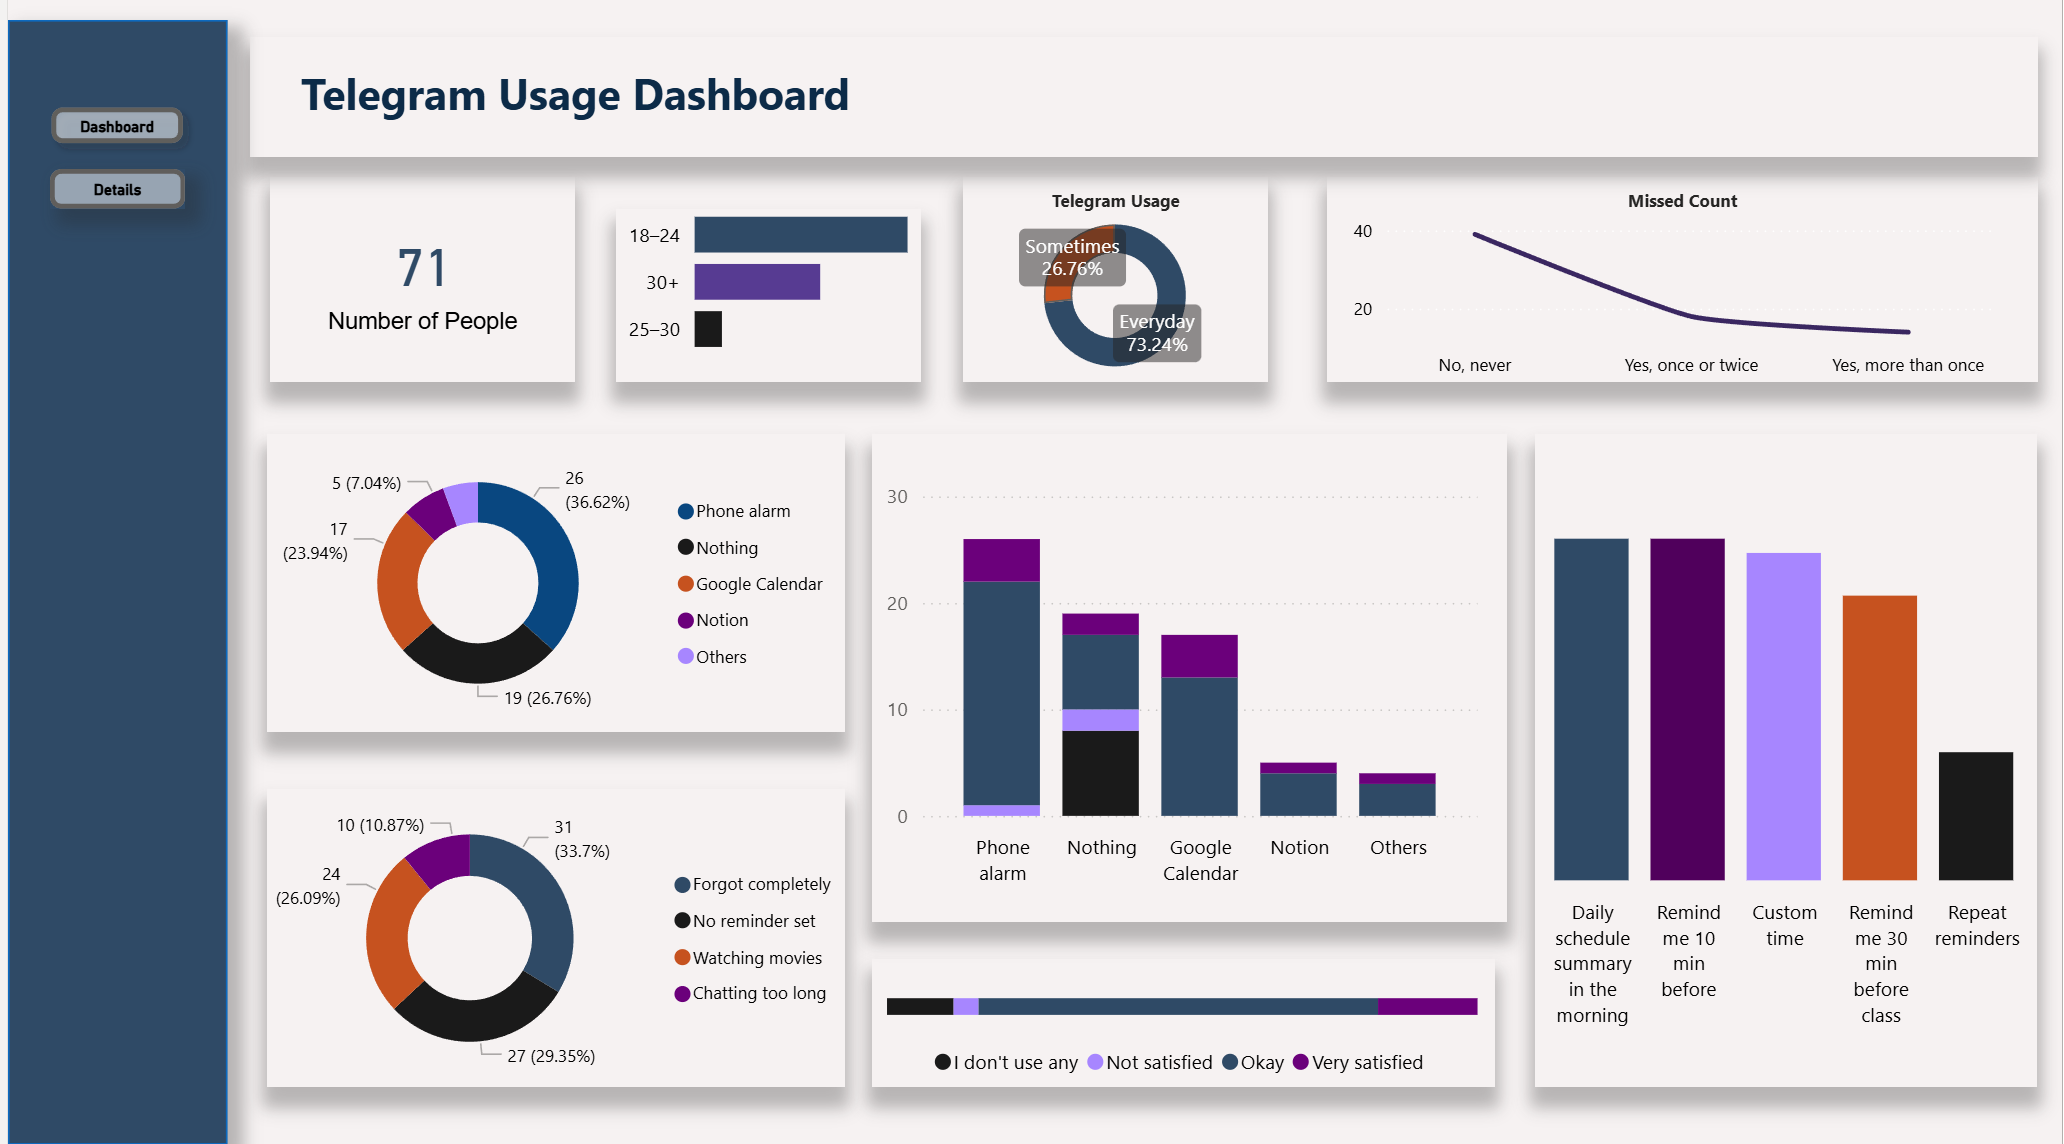

This screenshot's page, from the dashboard's own definition file:
{"tool":"powerbi","page":{"name":"Page 1","canvas":[1280,720],"ordinal":0},"visuals":[{"type":"shape","box":[0,19,136.8,700.9],"z":0},{"type":"shape","box":[163.4,116.8,190.1,127.8],"z":0,"group":"g1"},{"type":"columnChart","fields":{"Category":["Remind Time (Sheet1).Remind Time"],"Y":["Sum(Remind Time (Sheet1).Column2)"]},"box":[926.4,319.2,353.6,334.8],"z":0,"group":"g2"},{"type":"shape","box":[150.5,29.4,1114.4,75.3],"z":1000},{"type":"group","id":"g1","title":"Group 1","box":[155.7,116.8,1109.3,569.6],"z":1000,"group":"g2"},{"type":"shape","box":[161.6,276.8,359.9,185.8],"z":1000,"group":"g1"},{"type":"textbox","box":[150.5,40.6,405.7,53.7],"z":2000},{"type":"shape","box":[161.6,498,359.9,185.8],"z":2000,"group":"g1"},{"type":"actionButton","box":[18.2,64.2,99.9,40.2],"z":3000},{"type":"shape","box":[538.4,604,388,79.8],"z":3000,"group":"g1"},{"type":"actionButton","title":"Details","box":[26,111.6,84.3,24.7],"z":4000},{"type":"shape","box":[538.4,277,395.7,304.3],"z":4000,"group":"g1"},{"type":"group","id":"g2","title":"Group 2","box":[155.7,116.8,1124.3,569.6],"z":5000},{"type":"shape","box":[951.7,277,313.4,406.8],"z":5000,"group":"g1"},{"type":"donutChart","fields":{"Y":["Sum(Reminder Apps (Sheet1).Column2)"],"Category":["Reminder Apps (Sheet1).Reminder Apps"]},"box":[163.6,279.5,358,180.6],"z":6000,"group":"g1"},{"type":"hundredPercentStackedBarChart","fields":{"Y":["CountNonNull(Sheet2.Column13)"],"Series":["Sheet2.Column13"]},"box":[543,601.4,378.2,85],"z":7000,"group":"g1"},{"type":"columnChart","fields":{"Category":["Sheet2.Column12"],"Y":["CountNonNull(Sheet2.Column13)"],"Series":["Sheet2.Column13"]},"box":[543,301.7,378.2,264],"z":8000,"group":"g1"},{"type":"donutChart","fields":{"Y":["Sum(Missed Reasons (Sheet1).Column2)"],"Category":["Missed Reasons (Sheet1).Missed Reasons"]},"box":[155.7,498,371,185.8],"z":9000,"group":"g1"},{"type":"advanceCardE03760C5AB684758B56AA29F9E6C257B","fields":{"mainMeasure":["CountNonNull(Sheet2.Column1)"]},"box":[165.4,142.1,186.2,85],"z":10000,"group":"g1"},{"type":"shape","box":[378.8,136.9,190.1,107.7],"z":11000,"group":"g1"},{"type":"donutChart","fields":{"Category":["Sheet2.Column1"],"Y":["CountNonNull(Sheet2.Column1)"]},"box":[557.9,128.5,264,123.9],"z":12000,"group":"g1"},{"type":"shape","box":[594.9,116.8,190.1,127.8],"z":13000,"group":"g1"},{"type":"shape","box":[821.9,116.8,443.1,127.8],"z":14000,"group":"g1"},{"type":"barChart","fields":{"Category":["Sheet2.Column2"],"Y":["CountNonNull(Sheet2.Column2)"]},"box":[378.8,116.8,190.1,123.9],"z":15000,"group":"g1"},{"type":"lineChart","fields":{"Y":["CountNonNull(Sheet2.Column7)"],"Category":["Sheet2.Column7"]},"box":[833,136.3,421,116.1],"z":16000,"group":"g1"},{"type":"textbox","box":[644.8,116.8,90.8,28.5],"z":17000,"group":"g1"},{"type":"textbox","box":[1001,116.8,85.6,28.5],"z":18000,"group":"g1"}]}

Visuals, with their boxes in screenshot pixels (x1, y1, x2, y2), scaled from the page's 1280x720 canvas onto the 2064x1144 screenshot:
shape: [x1=0, y1=30, x2=221, y2=1143]
shape: [x1=263, y1=186, x2=570, y2=389]
columnChart - Remind Time (Sheet1).Remind Time x Sum(Remind Time (Sheet1).Column2): [x1=1494, y1=507, x2=2063, y2=1039]
shape: [x1=243, y1=47, x2=2040, y2=166]
"Group 1" group: [x1=251, y1=186, x2=2040, y2=1091]
shape: [x1=261, y1=440, x2=841, y2=735]
textbox: [x1=243, y1=65, x2=897, y2=150]
shape: [x1=261, y1=791, x2=841, y2=1086]
actionButton: [x1=29, y1=102, x2=190, y2=166]
shape: [x1=868, y1=960, x2=1494, y2=1086]
"Details" actionButton: [x1=42, y1=177, x2=178, y2=217]
shape: [x1=868, y1=440, x2=1506, y2=924]
"Group 2" group: [x1=251, y1=186, x2=2063, y2=1091]
shape: [x1=1535, y1=440, x2=2040, y2=1086]
donutChart - Sum(Reminder Apps (Sheet1).Column2) x Reminder Apps (Sheet1).Reminder Apps: [x1=264, y1=444, x2=841, y2=731]
hundredPercentStackedBarChart - CountNonNull(Sheet2.Column13) x Sheet2.Column13: [x1=876, y1=956, x2=1485, y2=1091]
columnChart - Sheet2.Column12 x CountNonNull(Sheet2.Column13): [x1=876, y1=479, x2=1485, y2=899]
donutChart - Sum(Missed Reasons (Sheet1).Column2) x Missed Reasons (Sheet1).Missed Reasons: [x1=251, y1=791, x2=849, y2=1086]
advanceCardE03760C5AB684758B56AA29F9E6C257B - CountNonNull(Sheet2.Column1): [x1=267, y1=226, x2=567, y2=361]
shape: [x1=611, y1=218, x2=917, y2=389]
donutChart - Sheet2.Column1 x CountNonNull(Sheet2.Column1): [x1=900, y1=204, x2=1325, y2=401]
shape: [x1=959, y1=186, x2=1266, y2=389]
shape: [x1=1325, y1=186, x2=2040, y2=389]
barChart - Sheet2.Column2 x CountNonNull(Sheet2.Column2): [x1=611, y1=186, x2=917, y2=382]
lineChart - CountNonNull(Sheet2.Column7) x Sheet2.Column7: [x1=1343, y1=217, x2=2022, y2=401]
textbox: [x1=1040, y1=186, x2=1186, y2=231]
textbox: [x1=1614, y1=186, x2=1752, y2=231]
